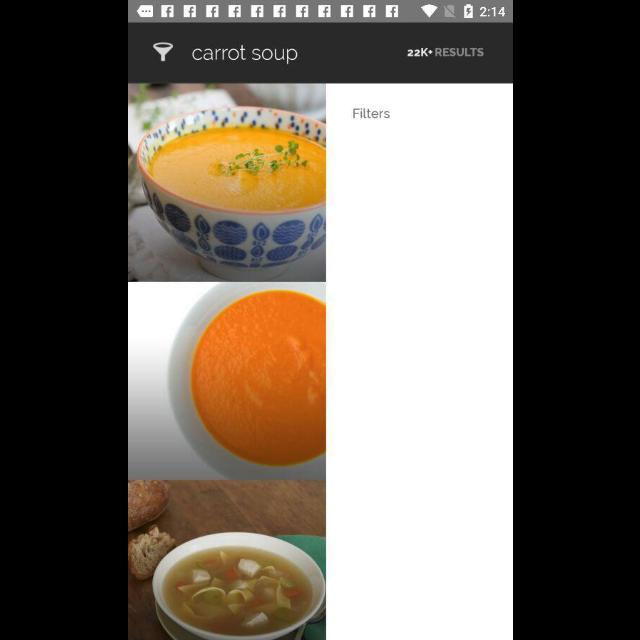image: (128, 84, 326, 282), (128, 283, 326, 479), (128, 480, 326, 640), (151, 42, 173, 62)
text: (191, 45, 297, 65), (406, 48, 484, 58), (352, 109, 390, 119)
toolbar: (128, 24, 512, 84)
uppertaskbar: (128, 1, 512, 23)
